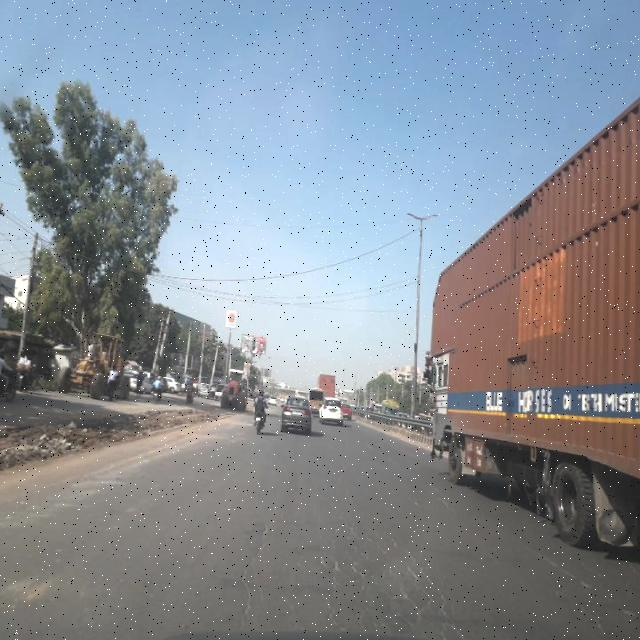D00: (542, 543, 604, 635), (232, 499, 275, 629)
D20: (295, 496, 474, 631)
